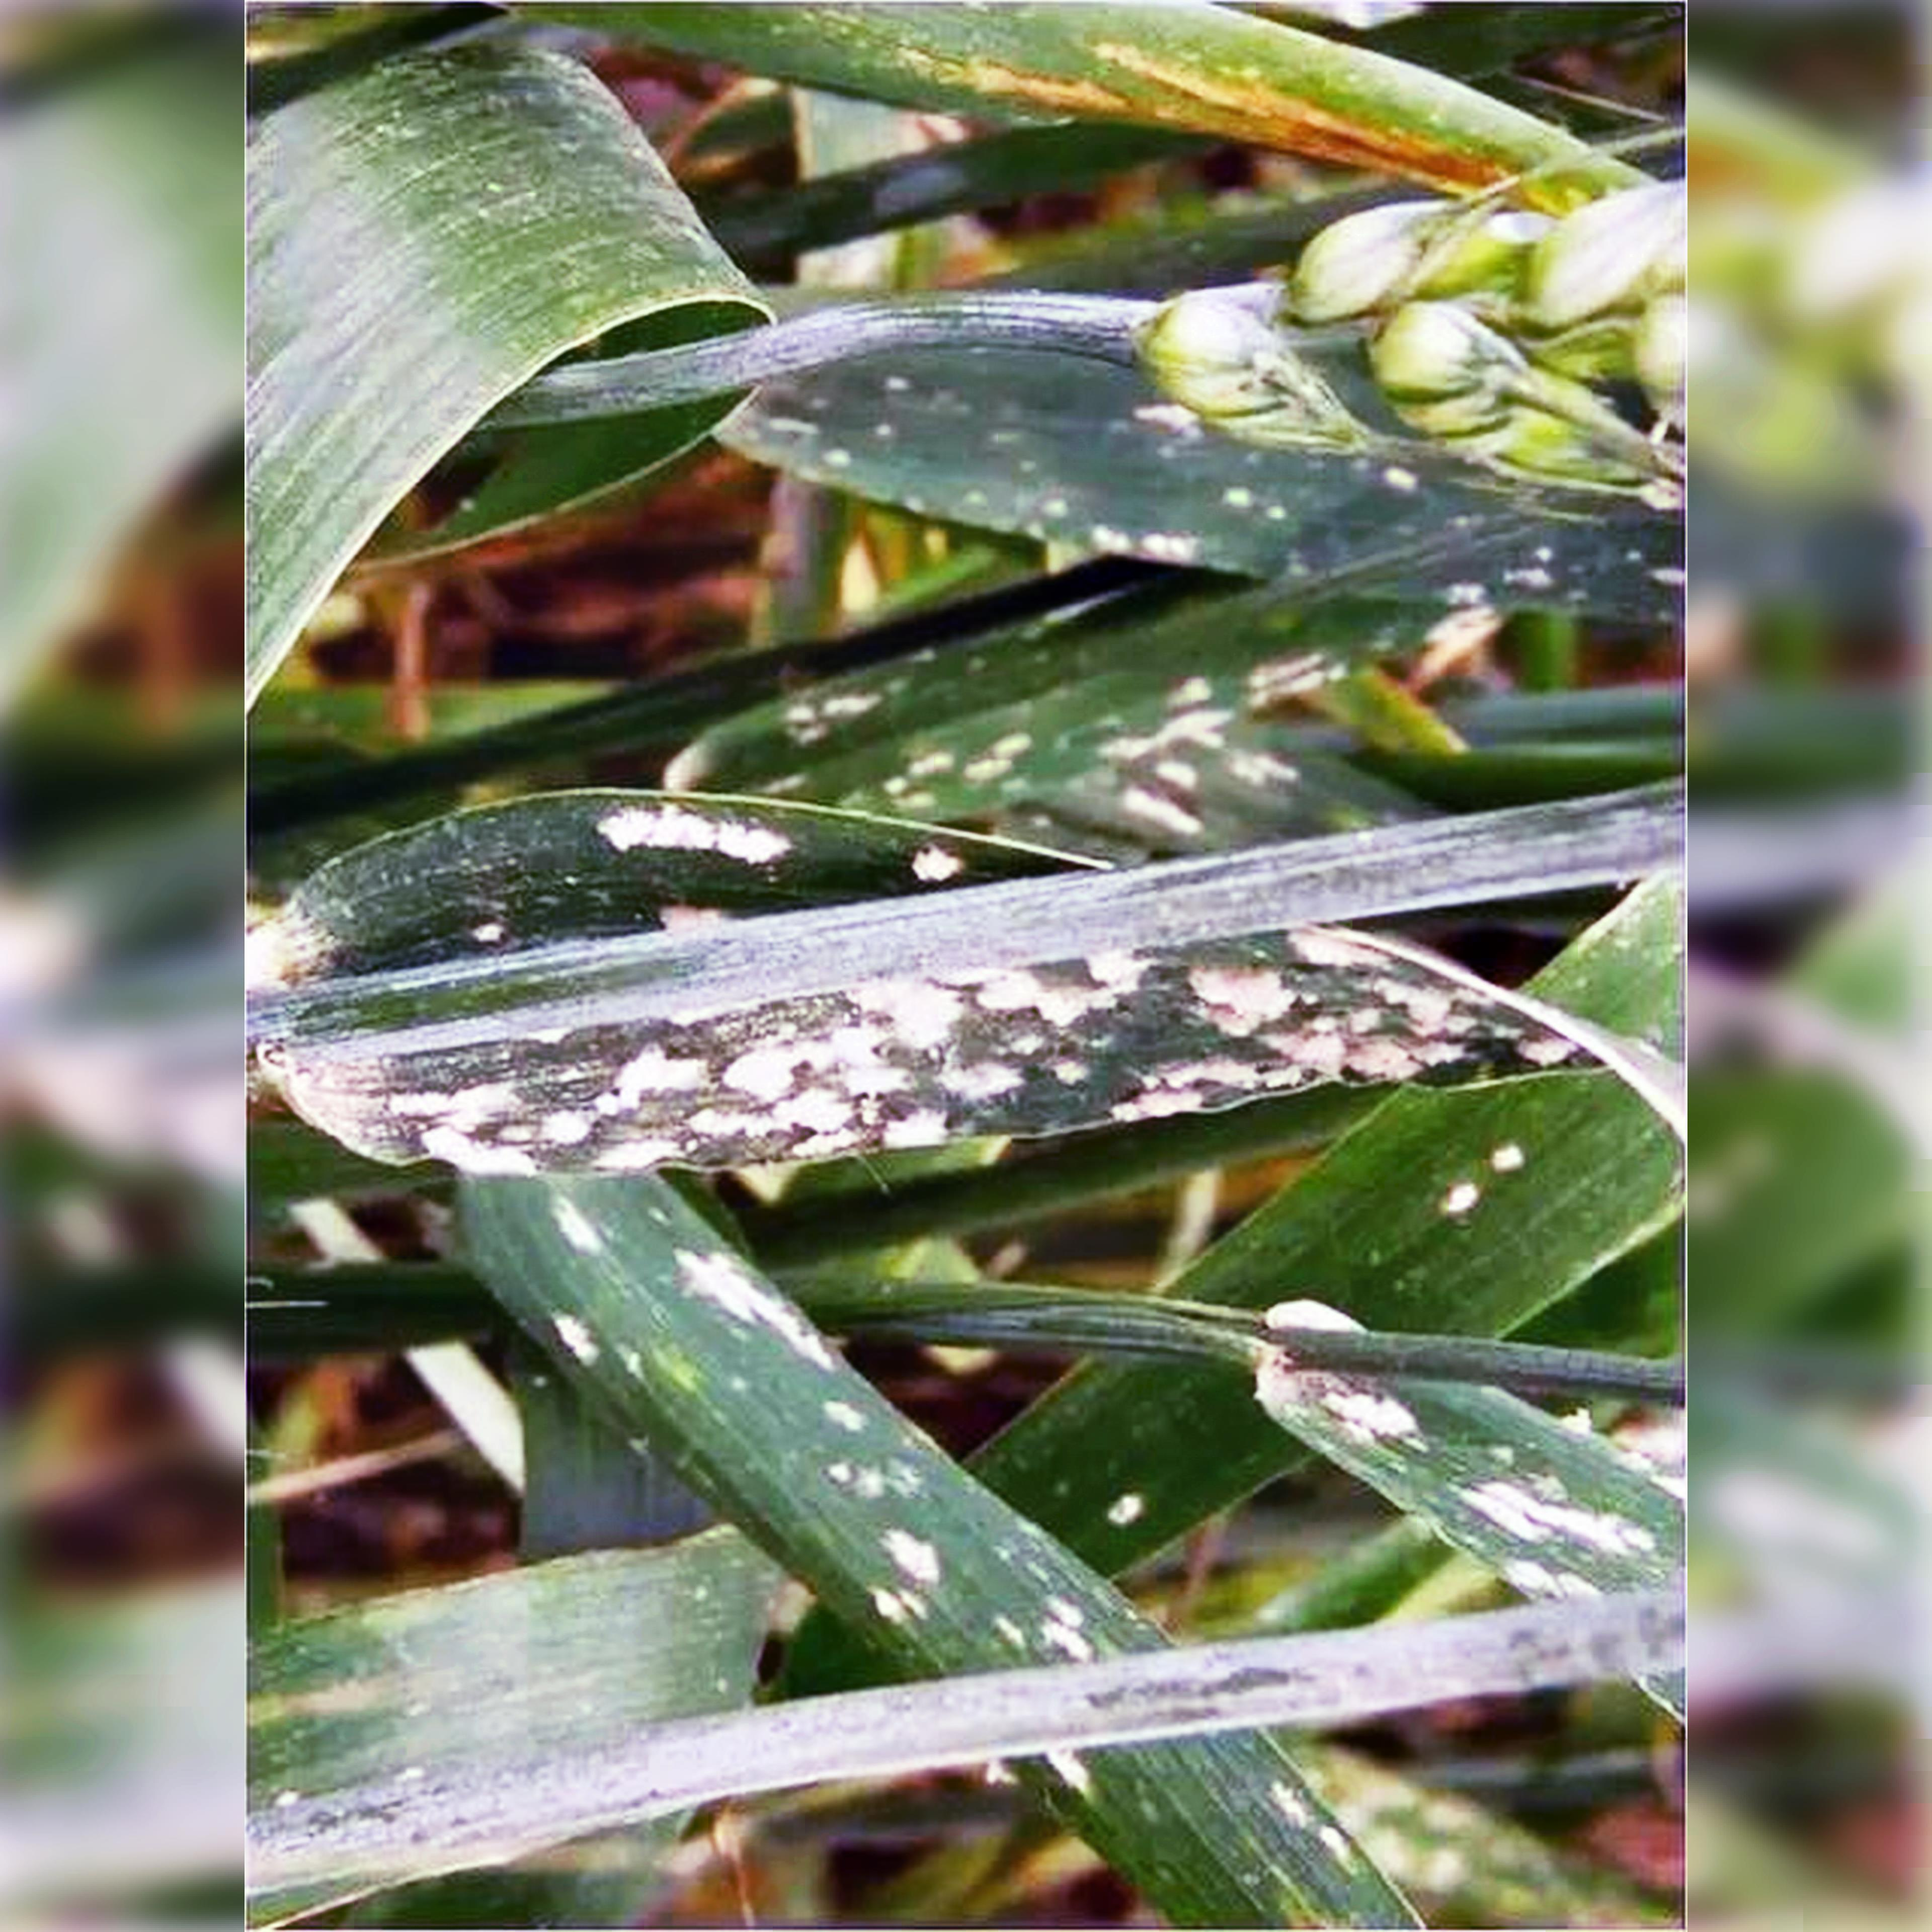Powdery Mildew: (359, 851, 1582, 1191)
